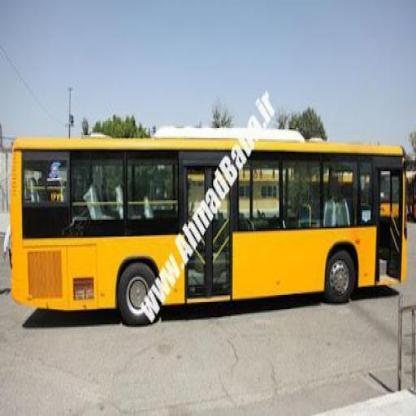Bus: (4, 121, 416, 323)
